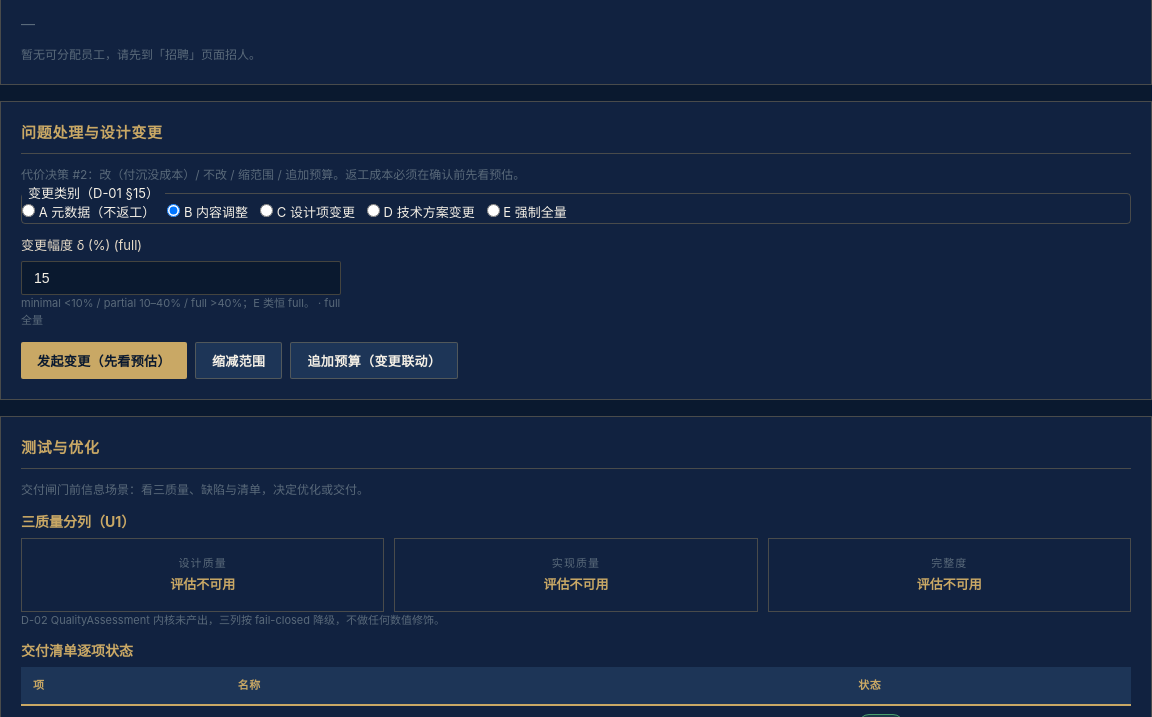
P-07 变更返工 + P-08 测试优化面板（批次 07B） › A-18 U4（REVISION）：返工预估弹窗先于确认出现，unit/沉没/延期为真实数值且确认可执行
Later steps or results of the test are not shown.
(page scrolled)
Click the button with test id "p07-open-estimate" at coordinates (104, 360), box [21,342,187,379]
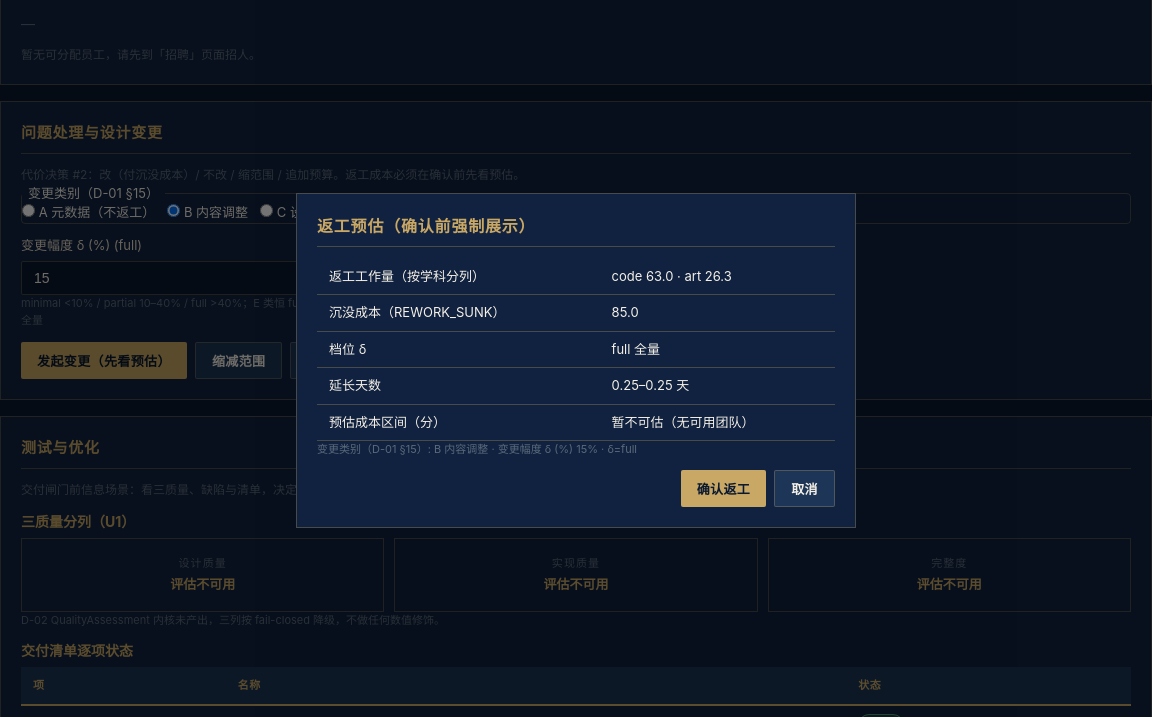
Now the table with test id "p07-rework-estimate" is shown, box [317,258,835,441]
Now the cell with test id "p07-estimate-units" shows "code", box [612,268,732,284]
Now the cell with test id "p07-estimate-units" shows "art", box [612,268,732,284]
